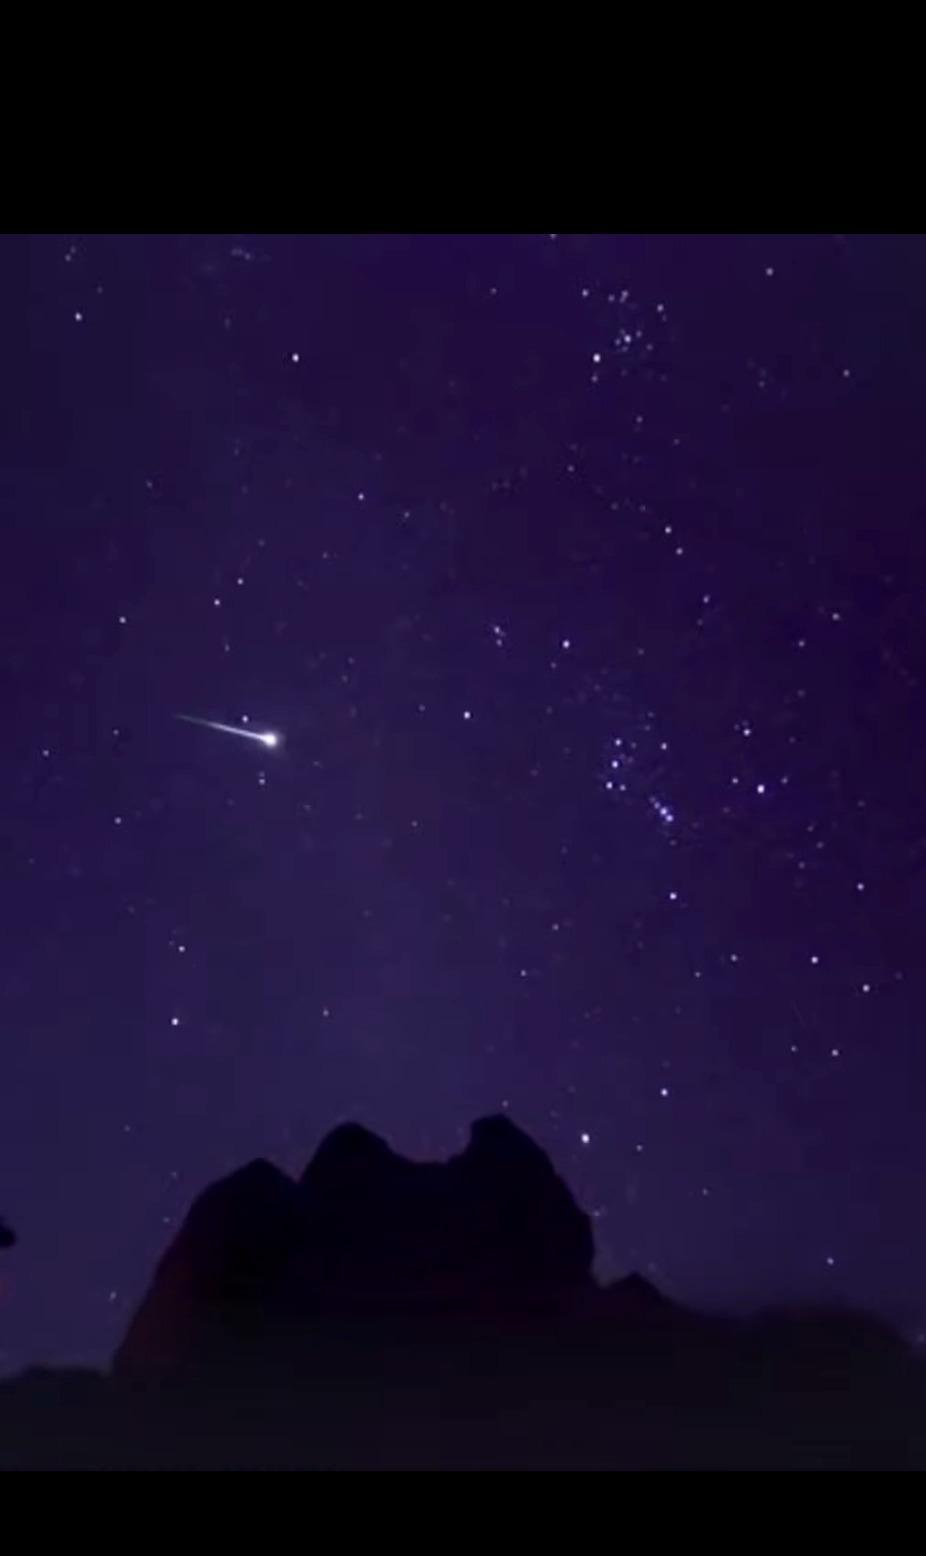meteorite: (146, 699, 304, 764)
